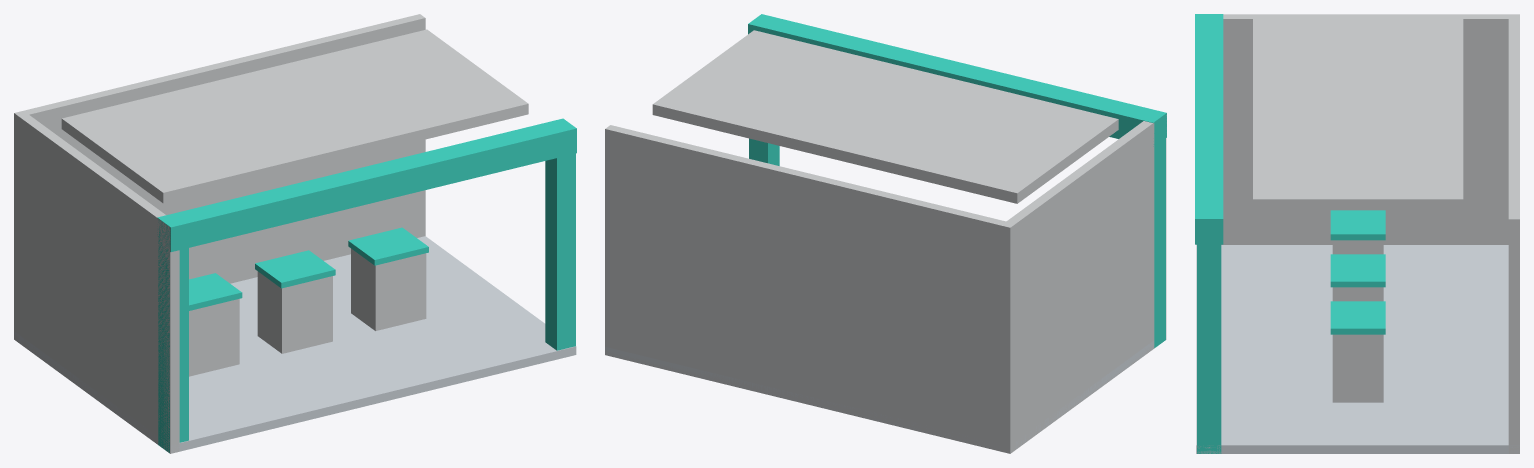
3 renders of one model, left to right at view 1: azimuth 30°, elevation 25°; view 2: azimuth 150°, elevation 25°; view 3: azimuth 270°, elevation 25°, orthographic. The views are drawn at different scales.
Parts seen in each view (by area): view 1: Exhibition Booth Concept; view 2: Exhibition Booth Concept; view 3: Exhibition Booth Concept.
Boxes of the visible parts, left/top/right/bottom form: Exhibition Booth Concept: left=14, top=14, right=576, bottom=453; Exhibition Booth Concept: left=605, top=14, right=1166, bottom=453; Exhibition Booth Concept: left=1195, top=14, right=1519, bottom=453.
Bounding box in the file's own units: 6 × 3.34 × 4.02.
